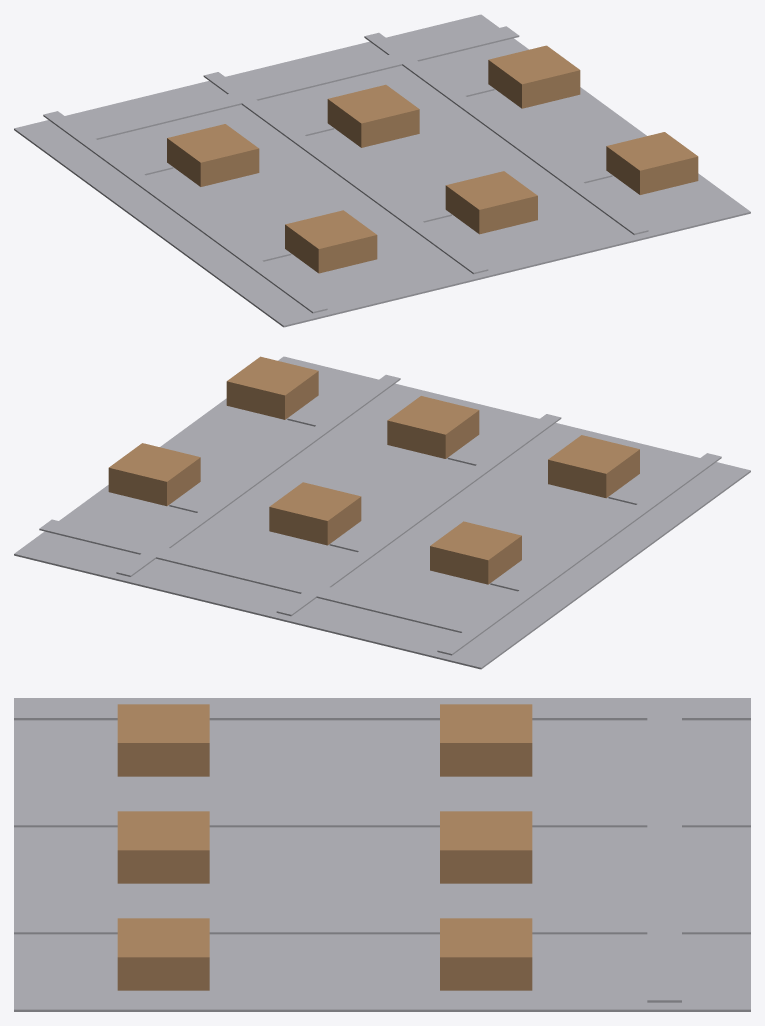
Rendered from city_c03_02.glb.
3 views of the same model, one above another, from view 1: azimuth 30°, elevation 25°; view 2: azimuth 150°, elevation 25°; view 3: azimuth 270°, elevation 25° (orthographic). The views are drawn at different scales.
Parts seen in each view (by area): view 1: terrain_east_proxy__c03_02, road_cross_east__c03_02, road_east_4__c03_02, road_east_2__c03_02, road_east_3__c03_02, building_057__c03_02, building_068__c03_02, building_069__c03_02, building_059__c03_02, building_058__c03_02, building_067__c03_02; view 2: terrain_east_proxy__c03_02, road_cross_east__c03_02, road_east_2__c03_02, road_east_3__c03_02, road_east_4__c03_02, building_058__c03_02, building_067__c03_02, building_057__c03_02, building_068__c03_02, building_059__c03_02, building_069__c03_02; view 3: terrain_east_proxy__c03_02, road_cross_east__c03_02, road_east_3__c03_02, road_east_4__c03_02, road_east_2__c03_02, building_057__c03_02, building_058__c03_02, building_059__c03_02, building_067__c03_02, building_068__c03_02, building_069__c03_02.
Part boxes in pixels (x1,y1,x2,y2): terrain_east_proxy__c03_02: (14,14,750,327); road_cross_east__c03_02: (68,26,519,142); road_east_4__c03_02: (43,111,327,313); road_east_2__c03_02: (364,32,648,234); road_east_3__c03_02: (203,72,488,274); building_057__c03_02: (488,45,580,108); building_068__c03_02: (445,171,537,234); building_069__c03_02: (285,210,377,273); building_059__c03_02: (167,124,259,186); building_058__c03_02: (327,84,419,147); building_067__c03_02: (606,132,698,194); terrain_east_proxy__c03_02: (14,356,750,669); road_cross_east__c03_02: (39,519,489,636); road_east_2__c03_02: (116,374,400,576); road_east_3__c03_02: (276,414,561,616); road_east_4__c03_02: (437,453,721,655); building_058__c03_02: (269,482,361,545); building_067__c03_02: (226,356,318,419); building_057__c03_02: (108,443,200,506); building_068__c03_02: (387,396,479,458); building_059__c03_02: (430,521,521,584); building_069__c03_02: (548,435,639,498); terrain_east_proxy__c03_02: (14,698,750,1011); road_cross_east__c03_02: (647,708,681,1002); road_east_3__c03_02: (14,815,750,827); road_east_4__c03_02: (14,708,750,720); road_east_2__c03_02: (14,922,750,934); building_057__c03_02: (440,918,532,990); building_058__c03_02: (440,811,532,883); building_059__c03_02: (440,704,532,776); building_067__c03_02: (117,918,209,990); building_068__c03_02: (117,811,209,883); building_069__c03_02: (117,704,209,776).
Bounding box in the file's own units: 128 × 8.6 × 128.
